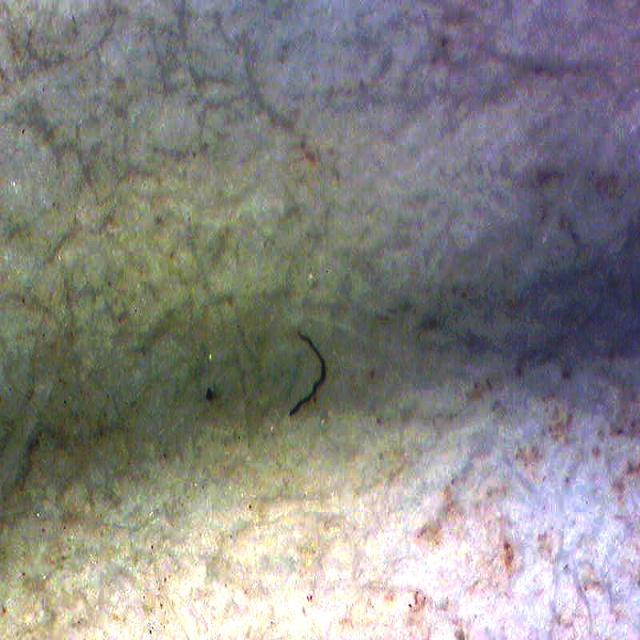microplastic: (280, 335, 336, 422)
